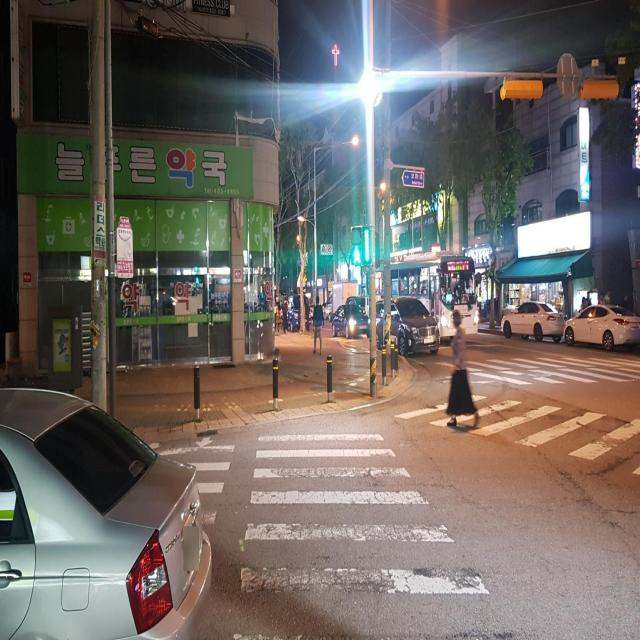초록불: (351, 224, 373, 266)
횡단보도: (132, 429, 494, 636), (394, 353, 640, 478)
